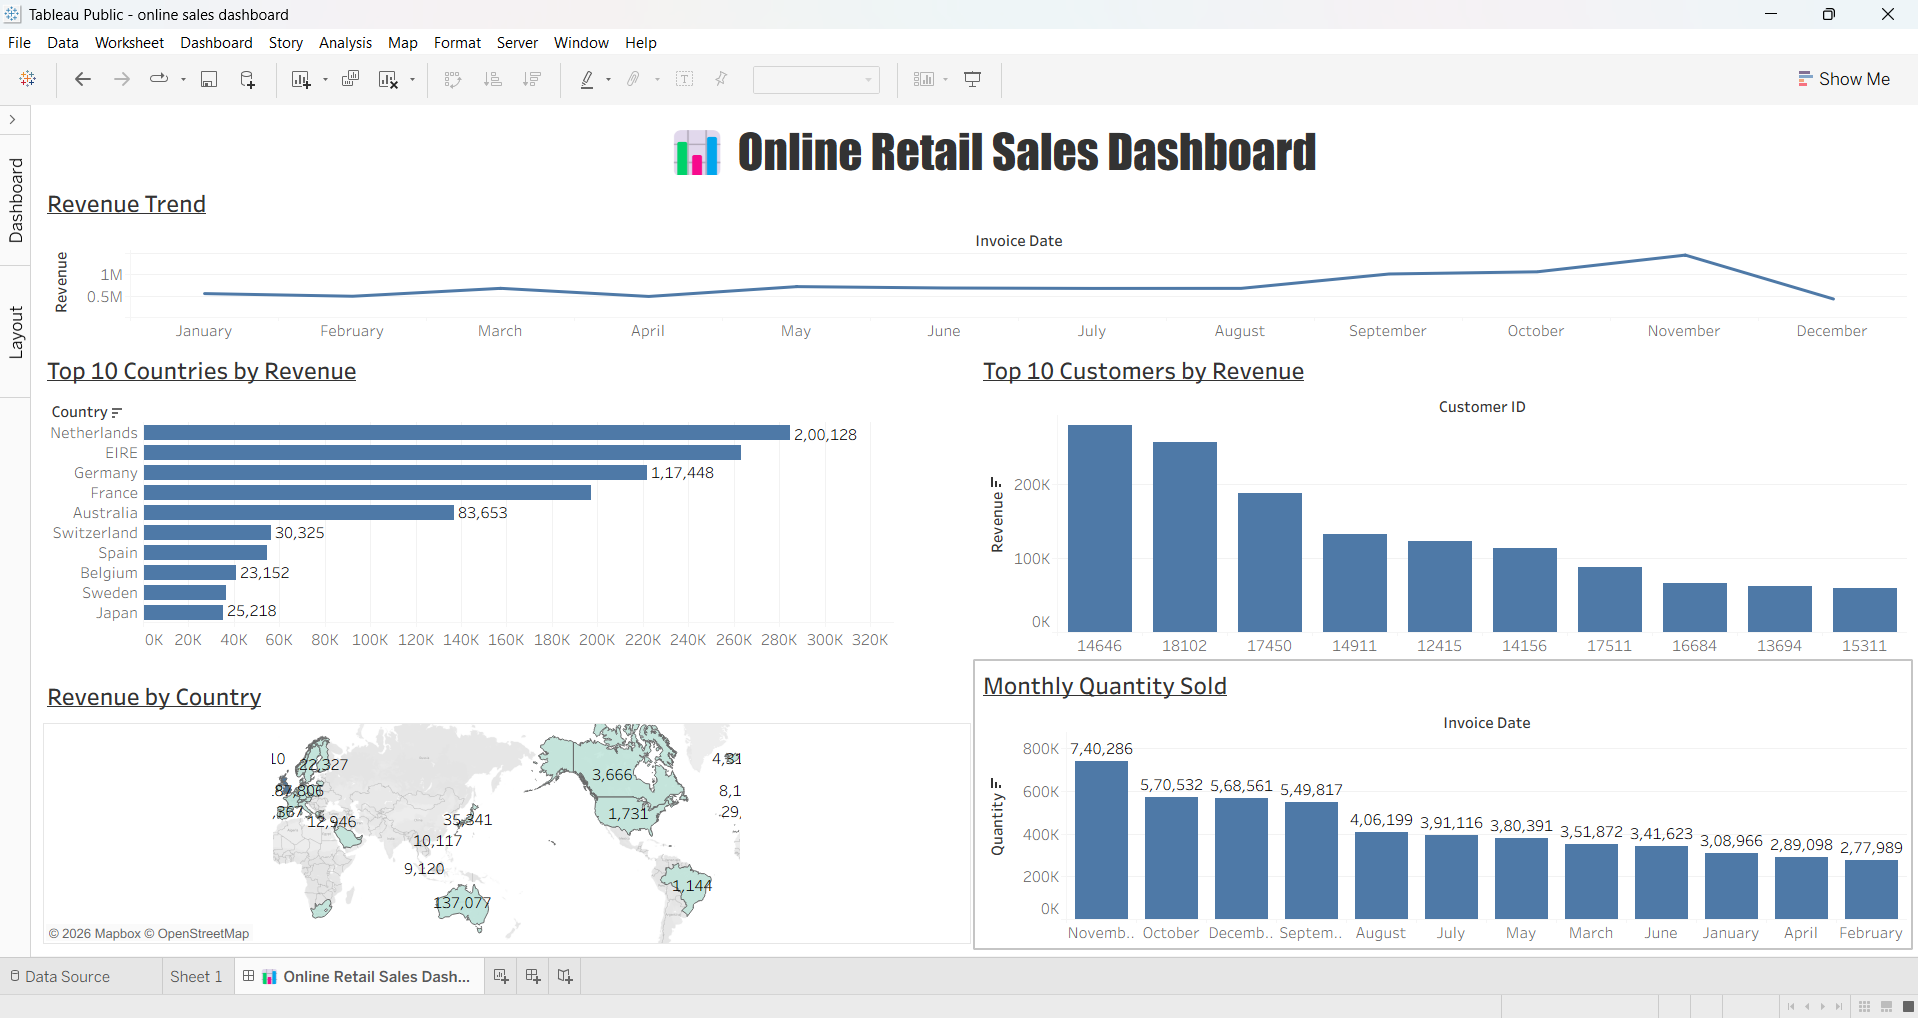

This screenshot's page, from the dashboard's own definition file:
{"tool":"tableau","page":{"name":"📊 Online Retail Sales Dashboard","canvas":[1000,1000],"units":"permille","ordinal":0},"visuals":[{"type":"title","box":[4.2,9.4,991.5,77.6]},{"type":"worksheet","title":"Revenue Trend","mark":"Automatic","rows":["Calculation_1809537730535424"],"cols":["InvoiceDate"],"box":[4.2,87,991.5,196.2]},{"type":"worksheet","title":"Top 10 Countries by Revenue","mark":"Automatic","rows":["Country"],"cols":["Calculation_1809537730535424"],"box":[4.2,283.2,495.8,383.1]},{"type":"worksheet","title":"Top 10 Customers by Revenue","mark":"Automatic","rows":["Calculation_1809537730535424"],"cols":["CustomerID"],"box":[500,283.2,495.8,370.2]},{"type":"worksheet","title":"Monthly Quantity Sold","mark":"Automatic","rows":["Quantity"],"cols":["InvoiceDate"],"box":[500,653.4,495.8,337.2]},{"type":"worksheet","title":"Revenue by Country","mark":"Automatic","box":[4.2,666.3,495.8,324.3]}]}

Visuals, with their boxes on the dashboard's canvas, which has no fixed pixel size, in thousandths of its width and height (x1, y1, x2, y2). These are canvas units, not pixel positions in the 1918x1018 screenshot, which may show the page scaled, cropped or inside an application window:
title: l=4, t=9, r=996, b=87
"Revenue Trend" worksheet: l=4, t=87, r=996, b=283
"Top 10 Countries by Revenue" worksheet: l=4, t=283, r=500, b=666
"Top 10 Customers by Revenue" worksheet: l=500, t=283, r=996, b=653
"Monthly Quantity Sold" worksheet: l=500, t=653, r=996, b=991
"Revenue by Country" worksheet: l=4, t=666, r=500, b=991
